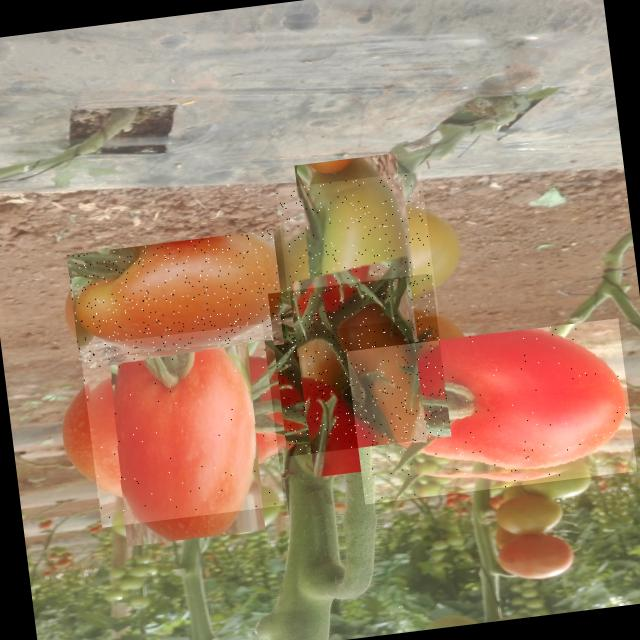Ripe Tomato: (346, 318, 636, 504), (80, 323, 284, 527)
Unripe Tomato: (267, 273, 451, 456), (66, 229, 286, 364), (274, 170, 438, 334)
